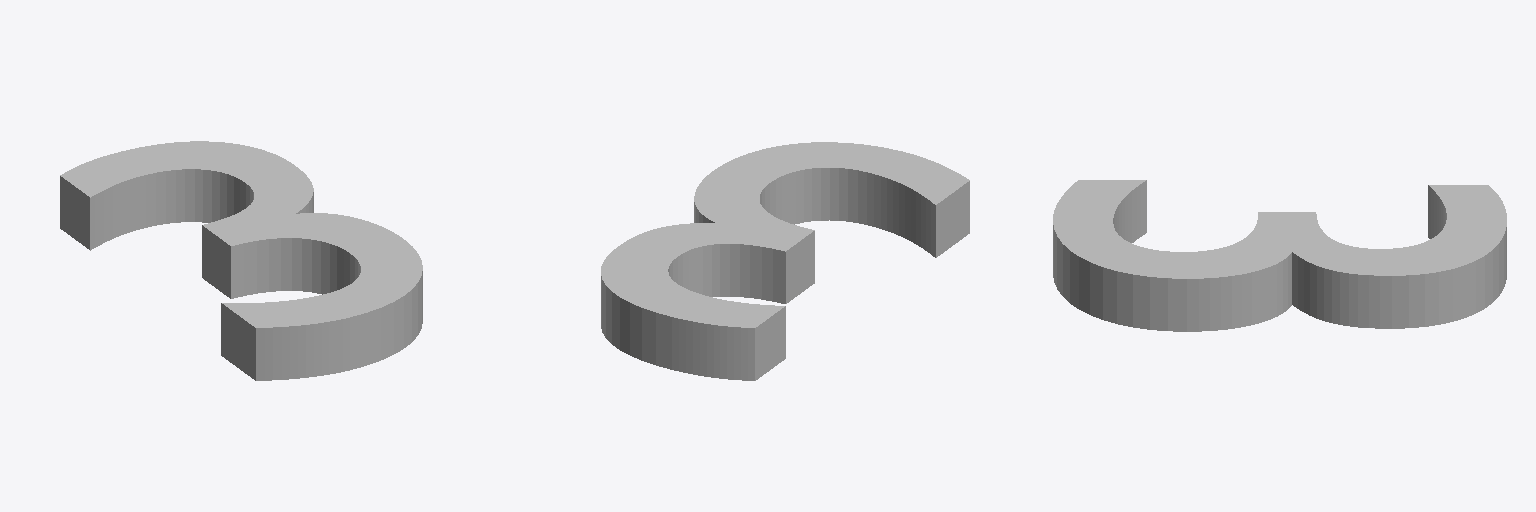
File: three.obj
The picture shows the model from 3 angles: view 1: azimuth 30°, elevation 25°; view 2: azimuth 150°, elevation 25°; view 3: azimuth 270°, elevation 25°; orthographic projection.
Visible parts, largest first — view 1: Text.002; view 2: Text.002; view 3: Text.002.
Part boxes in pixels (x1,y1,x2,y2): Text.002: (60, 141, 422, 380); Text.002: (601, 142, 969, 380); Text.002: (1053, 180, 1506, 331).
Bounding box in the file's own units: 0.36 × 0.09 × 0.7.